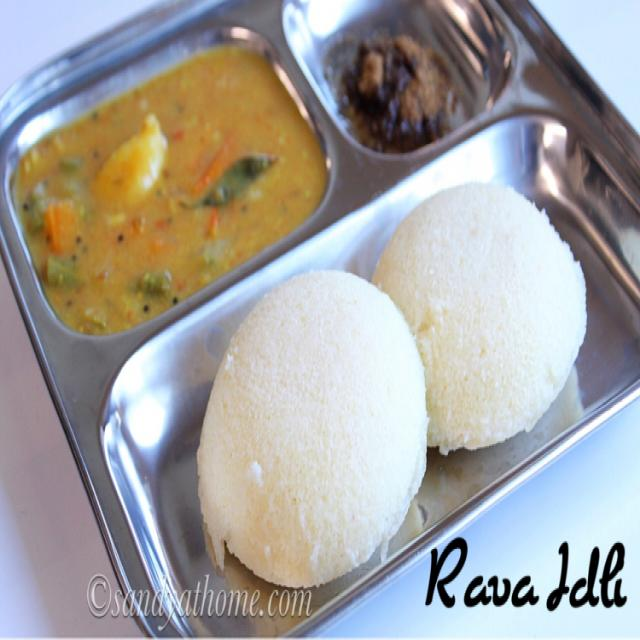idli: (200, 266, 428, 588), (366, 179, 588, 441)
